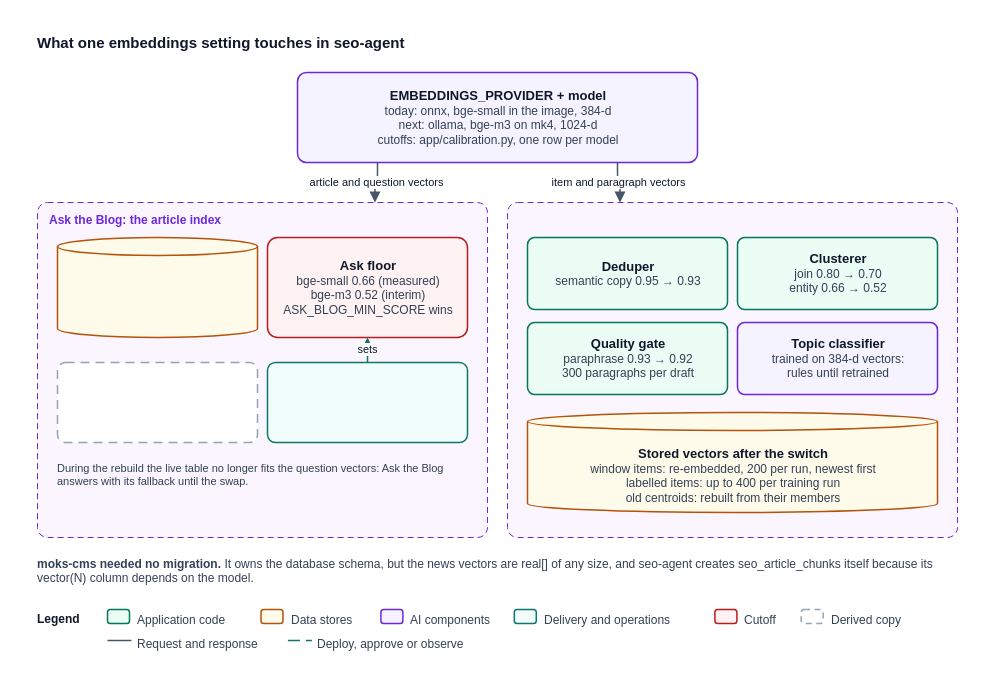
This 994x682 diagram has some shape labels left out. The box of each missing label's shape, as (x1, y1, x2, y2) in pixels:
LanceDB copy rewrites itself at 1024-d: (56, 361, 258, 443)
News desk: news_items and news_clusters (real[]): (506, 202, 958, 538)
rag_eval.py 95 labelled questions: measures the real floor: (266, 361, 468, 443)
seo_article_chunks vector(384) today; builds _next at 1024, then swaps it in: (56, 236, 258, 338)
